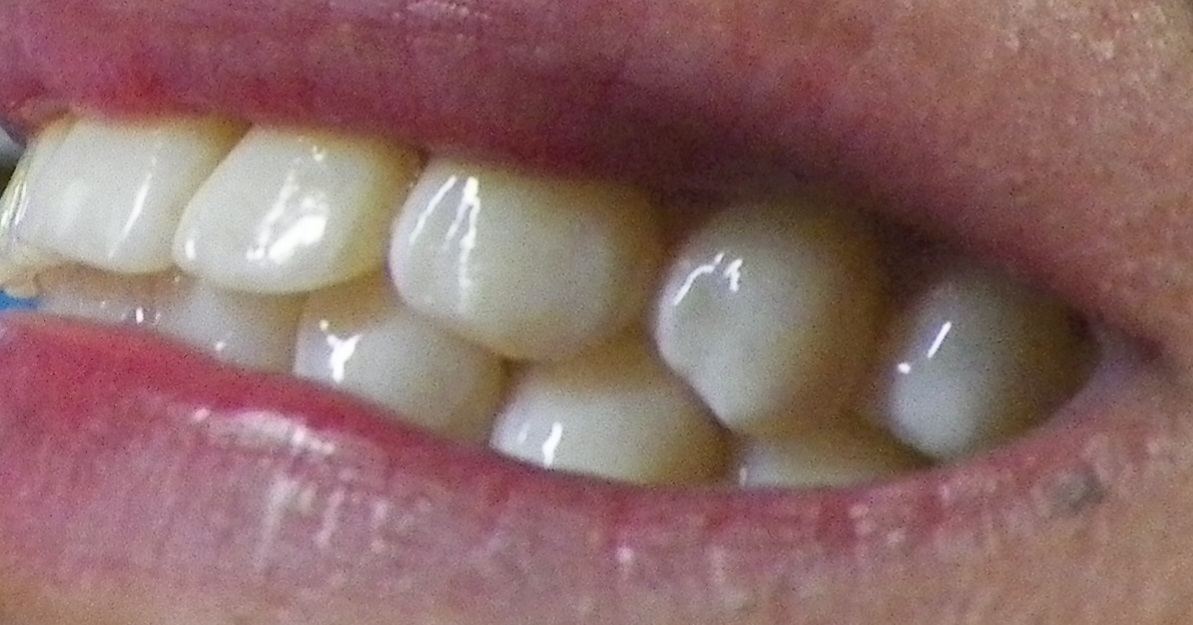boca: (6, 120, 1074, 481)
